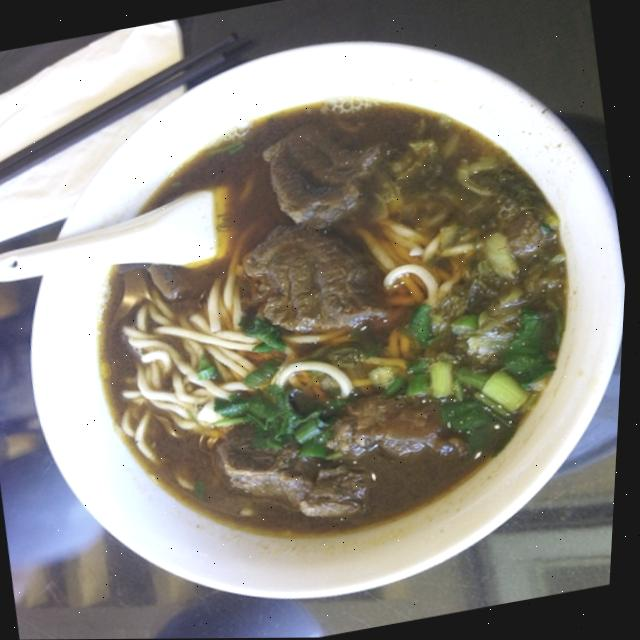面条主食: (3, 31, 639, 627)
